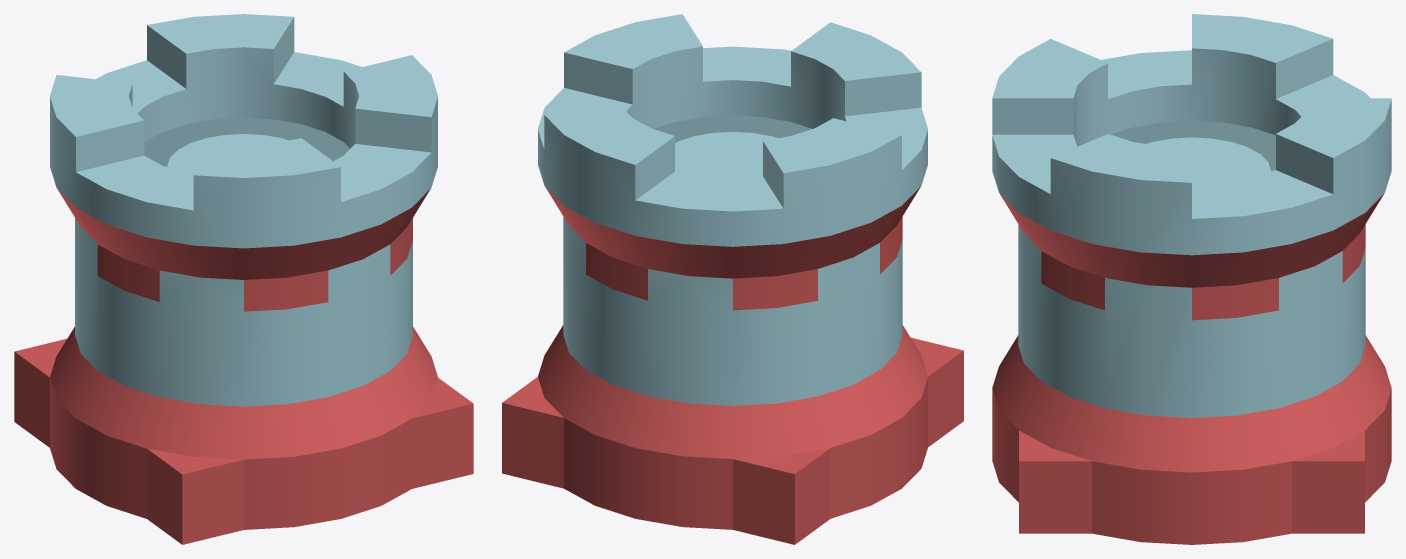
The model's file is towerRound_sampleE.dae.
3 renders of one model, left to right at view 1: azimuth 30°, elevation 25°; view 2: azimuth 150°, elevation 25°; view 3: azimuth 270°, elevation 25°, orthographic. The views are drawn at different scales.
Visible parts, largest first — view 1: towerRound_sampleE; view 2: towerRound_sampleE; view 3: towerRound_sampleE.
Boxes of the visible parts, x1,y1,x2,y2 form: towerRound_sampleE: (14,14,473,544); towerRound_sampleE: (502,14,963,544); towerRound_sampleE: (992,14,1391,544).
Bounding box in the file's own units: 1 × 1 × 1.
